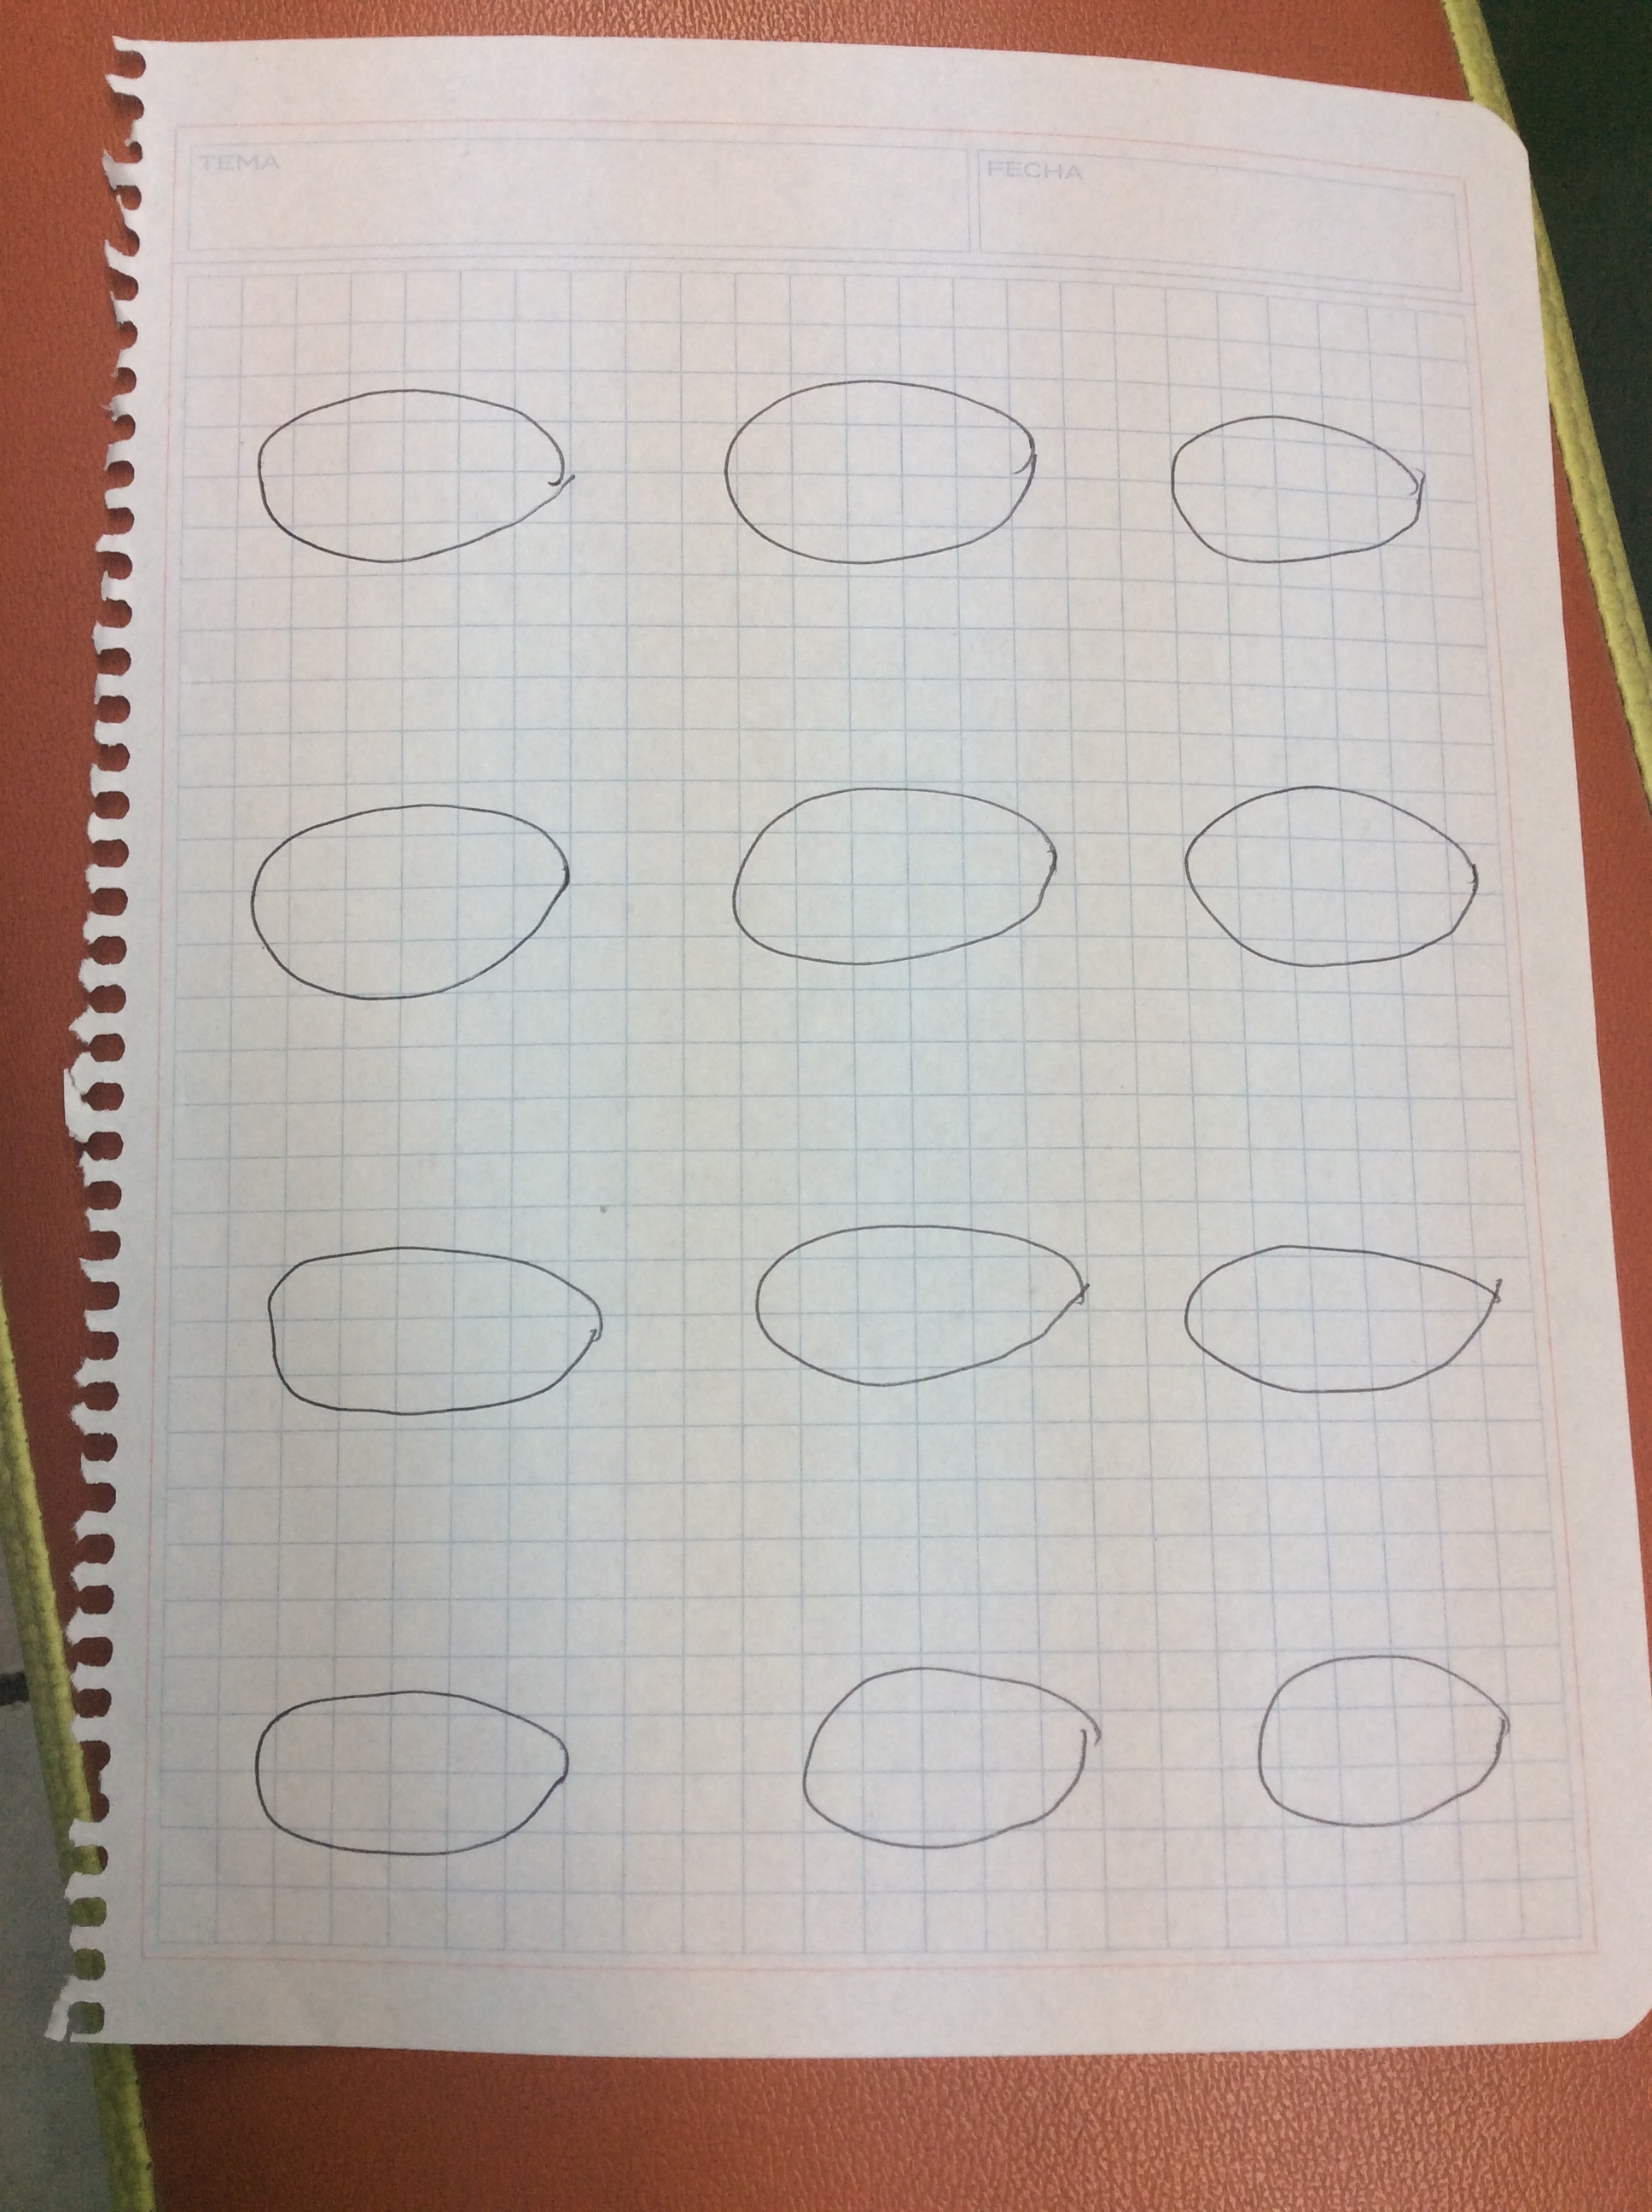start_end: (206, 755, 595, 1034), (684, 751, 1074, 1013), (231, 1218, 637, 1454), (739, 1641, 1131, 1881), (680, 363, 1071, 593), (224, 1666, 606, 1901), (698, 1202, 1114, 1410), (1156, 748, 1503, 987), (224, 366, 595, 586), (1152, 1214, 1531, 1417), (1213, 1629, 1544, 1860), (1142, 382, 1466, 600)
